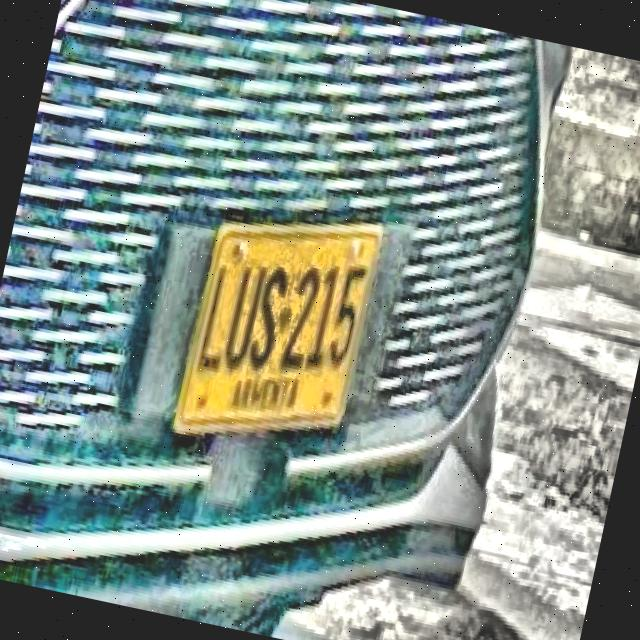1: (303, 265, 345, 372)
2: (277, 264, 325, 372)
5: (322, 263, 370, 374)
L: (193, 264, 239, 376)
S: (244, 264, 291, 378)
U: (219, 264, 268, 379)
